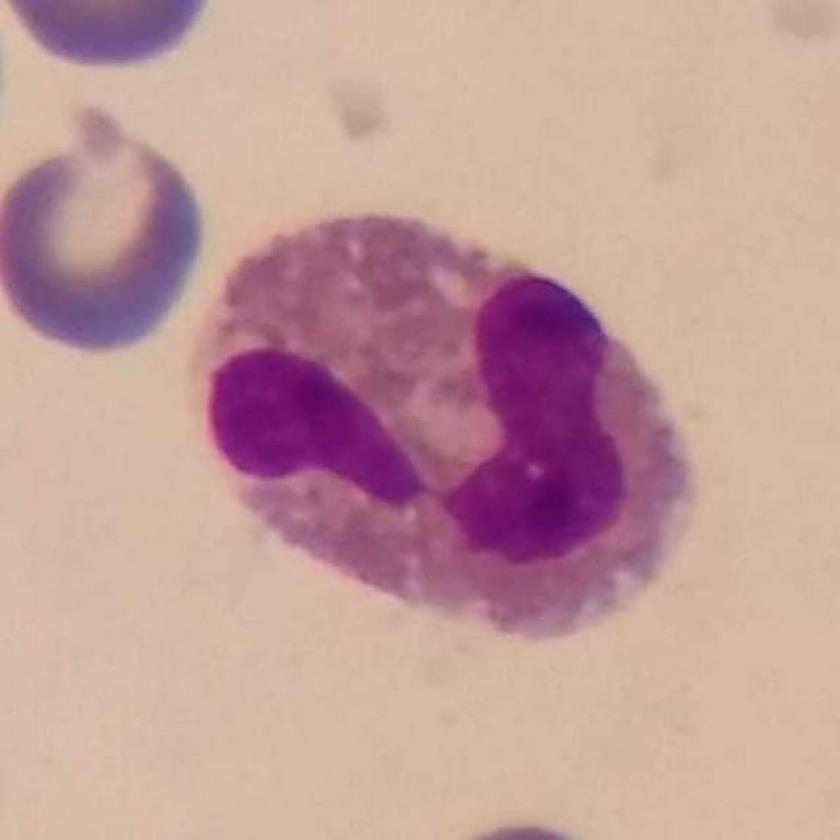eosinophil: (194, 207, 698, 647)
